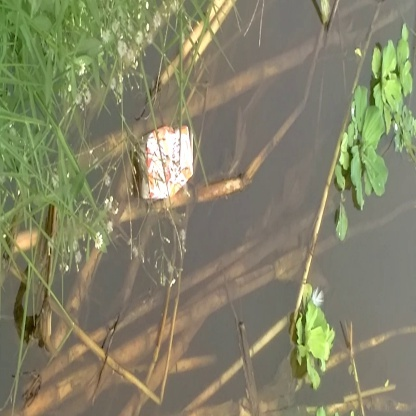milk-box: (134, 120, 200, 202)
